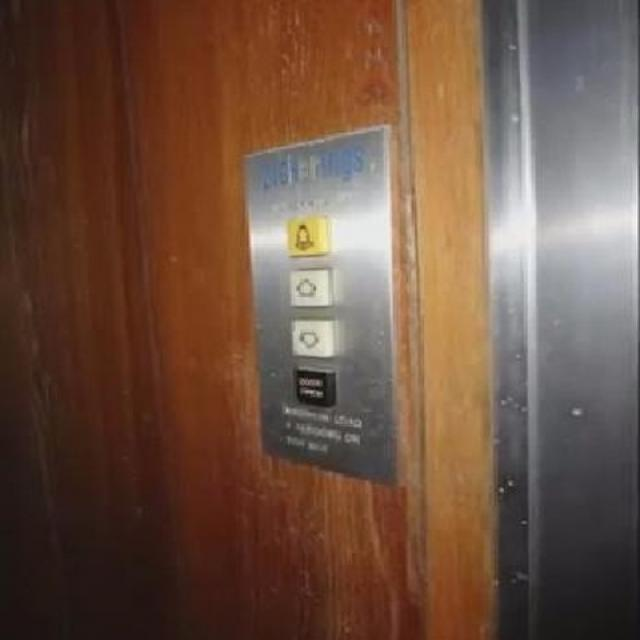alarm: (285, 213, 331, 257)
blur: (291, 364, 337, 407)
down: (286, 313, 342, 358)
up: (286, 266, 334, 305)
